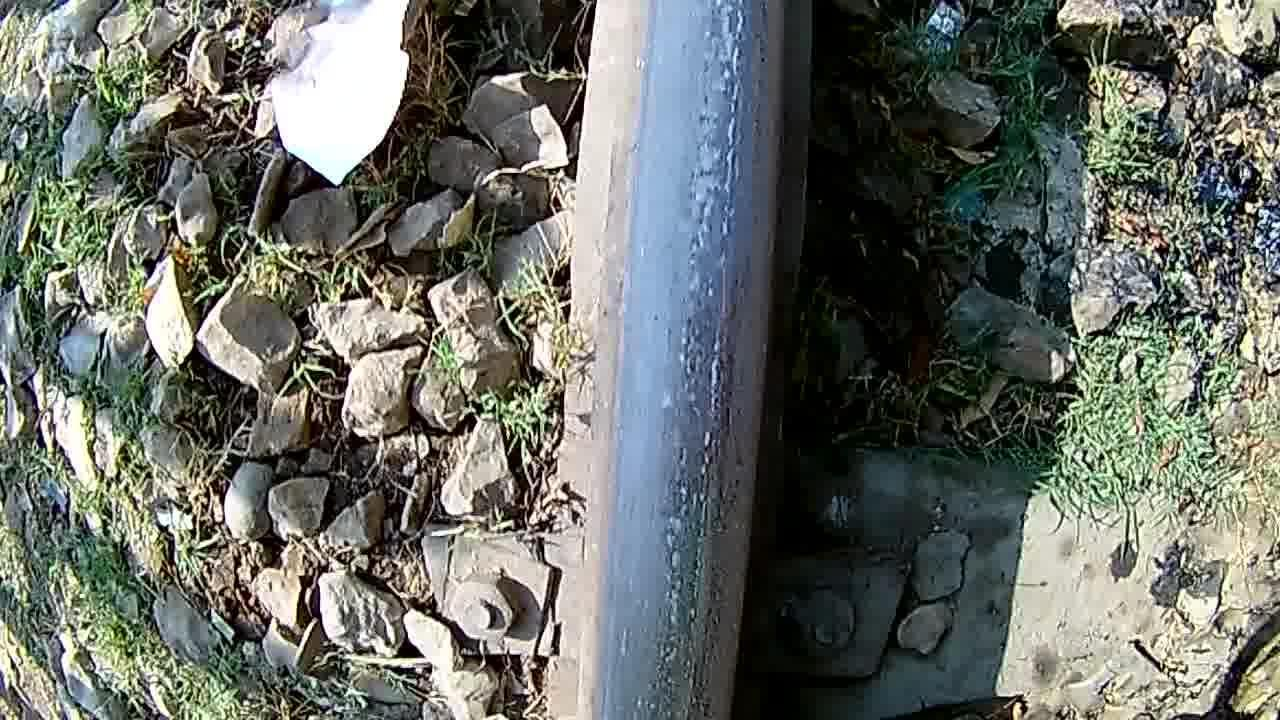crack: (617, 2, 758, 720)
